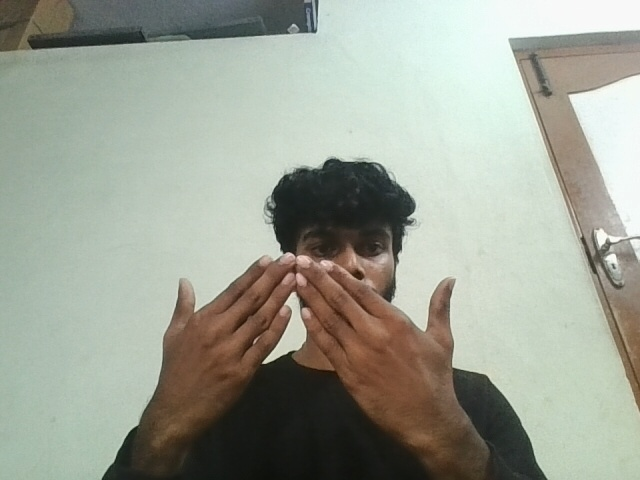thankyou: (141, 239, 485, 444)
